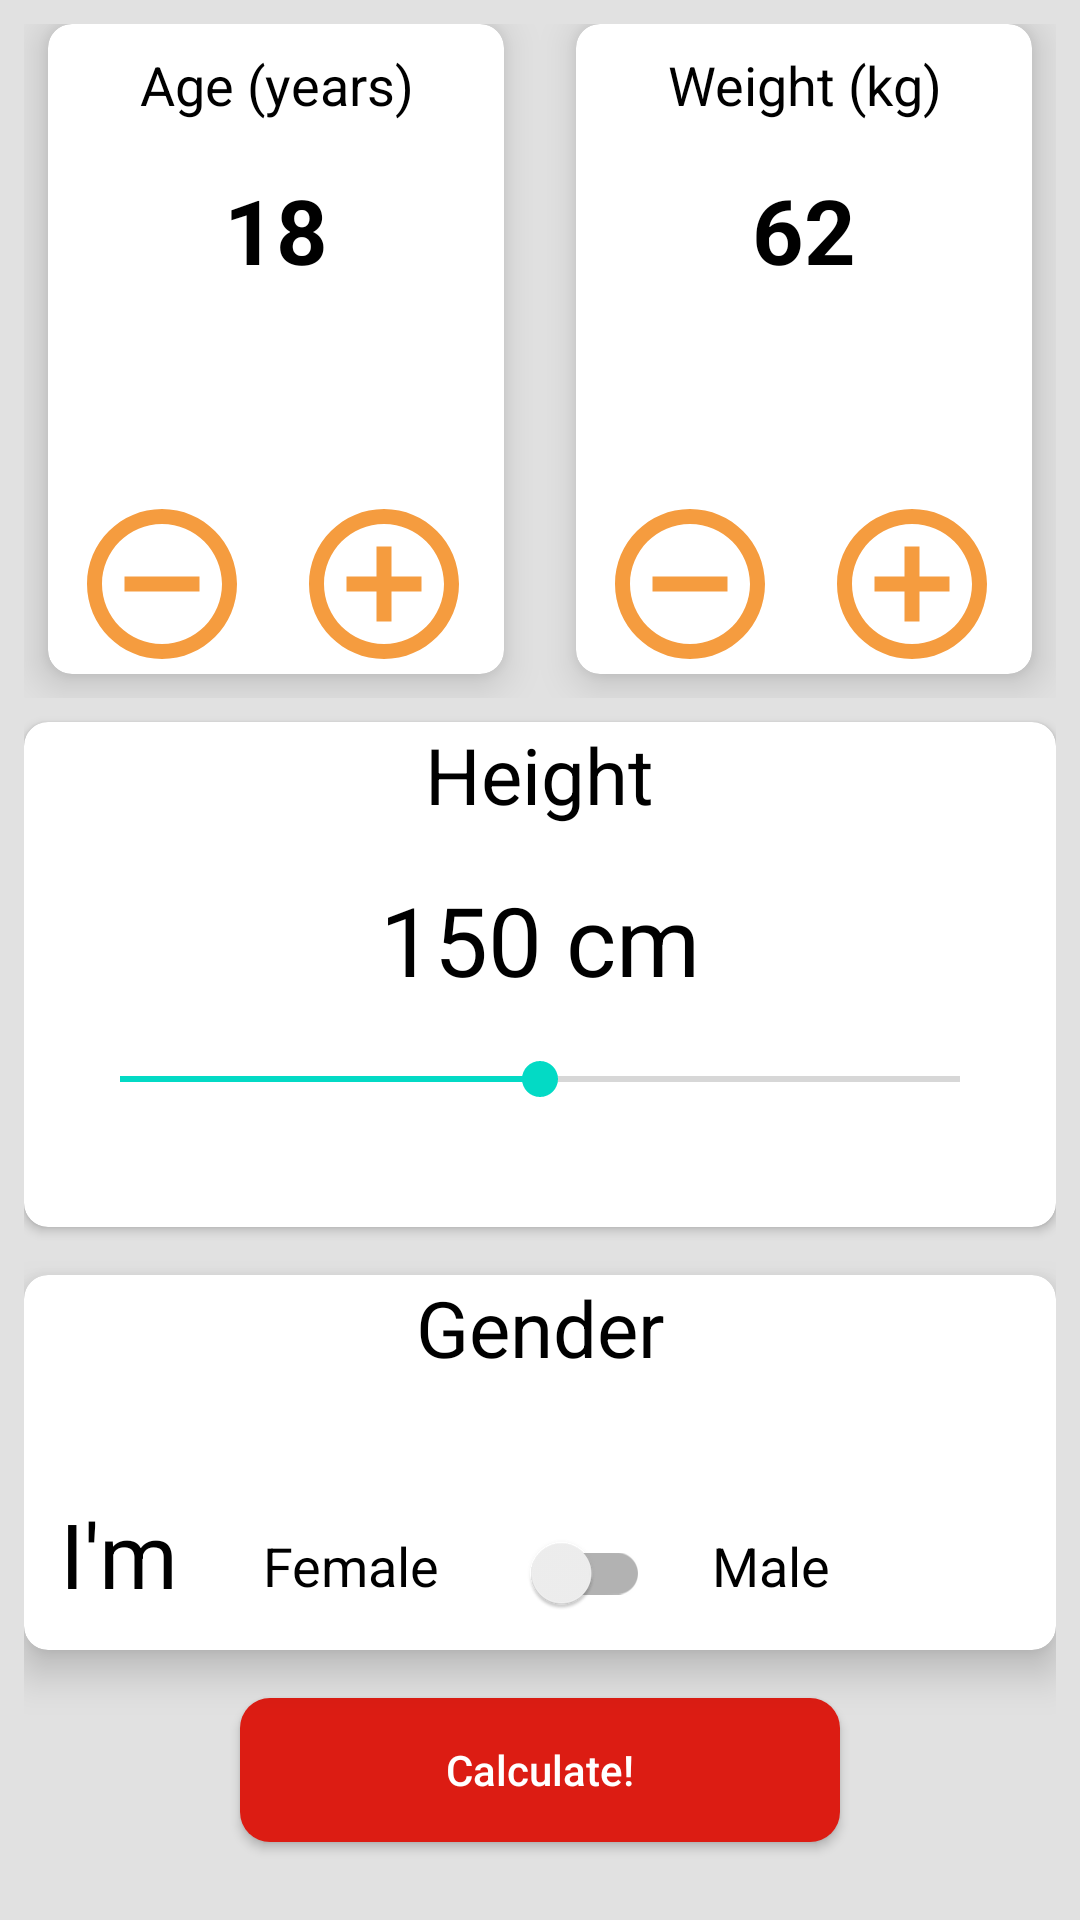

Icons on this 1080*1920 Android screen, each with its box as [left=x1, top=y1, right=x2, bottom=y2]:
add: [left=309, top=509, right=459, bottom=659], [left=837, top=509, right=987, bottom=659]
remove: [left=87, top=509, right=237, bottom=659], [left=615, top=509, right=765, bottom=659]
